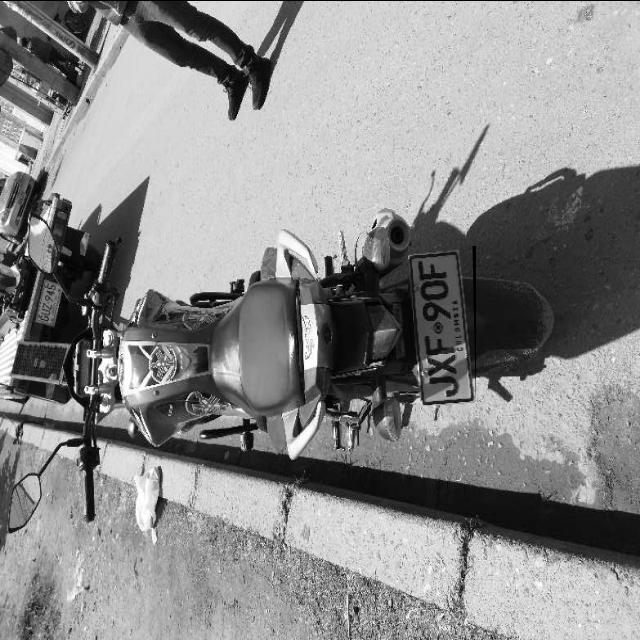plate: (408, 245, 476, 403)
